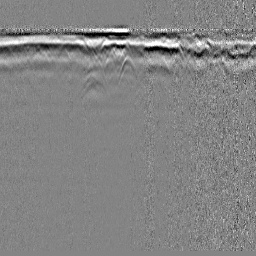cavity: (116, 54, 138, 82)
